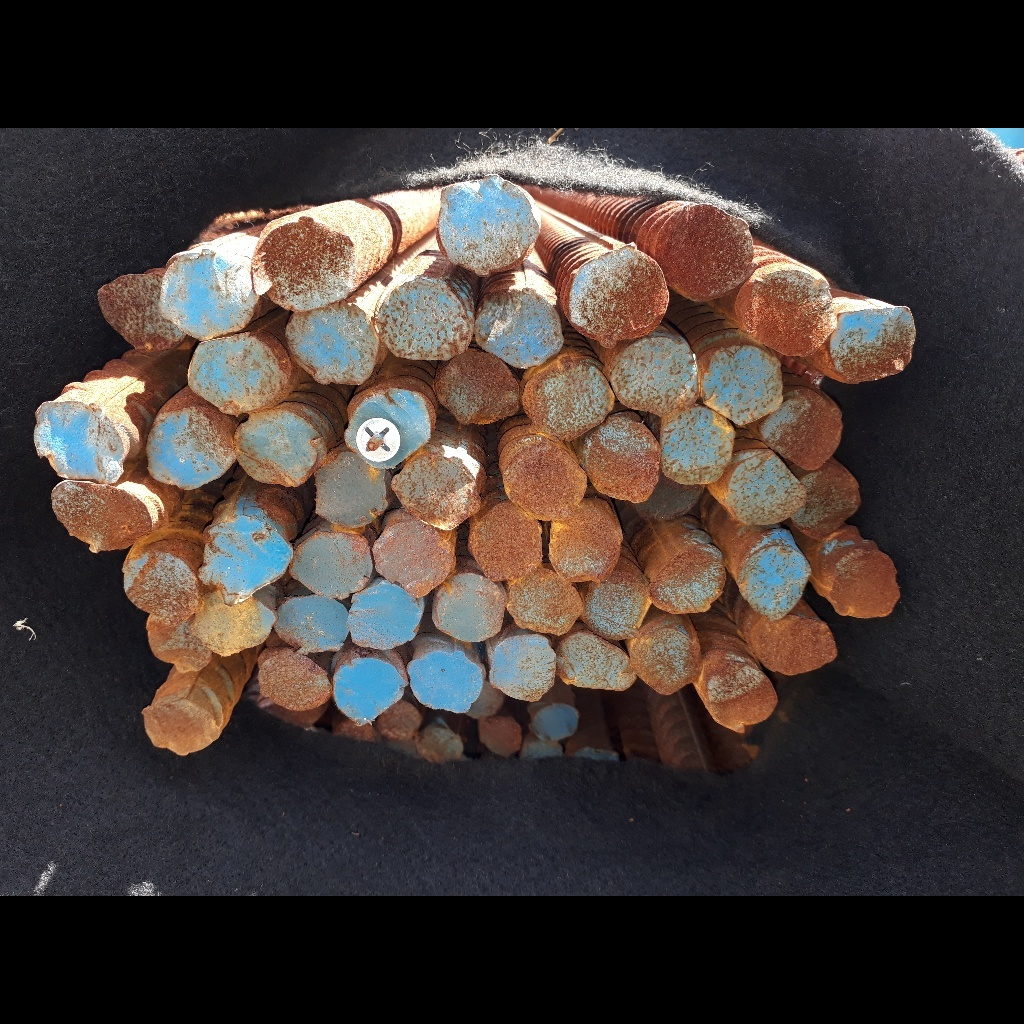dipstick: (439, 178, 538, 275), (658, 204, 754, 300), (255, 218, 354, 311), (570, 246, 666, 339), (159, 254, 256, 339), (201, 518, 293, 604), (286, 303, 374, 389), (378, 283, 471, 361), (99, 270, 184, 355), (189, 339, 282, 414), (33, 404, 121, 483), (700, 345, 785, 426), (828, 303, 917, 379), (751, 272, 833, 354), (392, 454, 479, 531), (344, 392, 431, 469), (473, 289, 562, 363), (434, 350, 521, 425), (145, 413, 230, 489), (234, 411, 316, 489), (760, 393, 844, 469), (612, 339, 697, 414), (48, 479, 131, 553), (584, 421, 656, 505), (372, 523, 453, 594), (470, 500, 540, 581), (312, 453, 387, 528), (728, 454, 806, 526), (537, 366, 614, 437), (663, 410, 734, 486), (793, 464, 862, 542), (504, 454, 588, 517), (121, 552, 198, 620), (195, 591, 276, 655), (348, 579, 421, 650), (741, 545, 810, 620), (290, 535, 374, 596), (651, 546, 726, 613), (507, 569, 583, 635), (405, 649, 483, 713), (706, 661, 779, 729), (430, 573, 504, 640), (331, 656, 404, 723), (273, 593, 351, 655), (547, 516, 617, 583), (556, 634, 633, 694), (756, 613, 834, 672), (488, 635, 557, 701), (629, 628, 696, 694), (258, 653, 330, 710), (143, 699, 215, 756), (834, 555, 900, 617), (581, 577, 649, 633), (141, 612, 201, 667), (637, 474, 706, 517), (415, 729, 464, 763), (530, 704, 577, 739), (479, 716, 522, 754), (376, 699, 419, 736)
